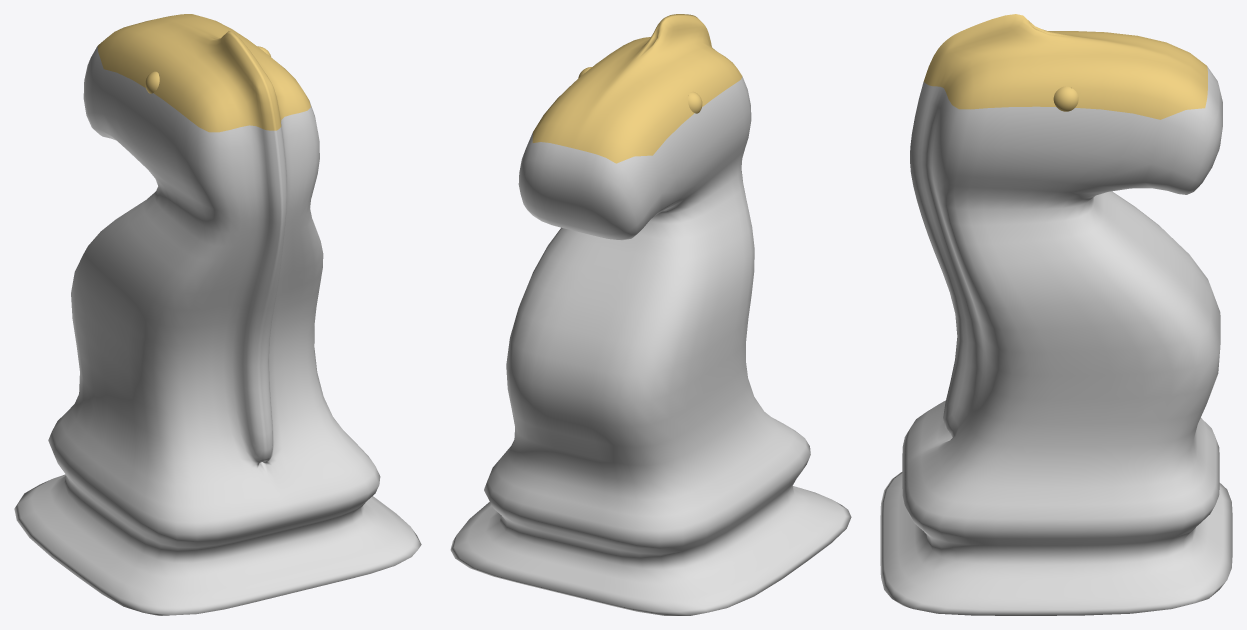
The model's file is sade_n_w.glb.
The picture shows the model from 3 angles, left to right: view 1: azimuth 30°, elevation 25°; view 2: azimuth 150°, elevation 25°; view 3: azimuth 270°, elevation 25°; orthographic projection. The views are drawn at different scales.
Visible parts, largest first — view 1: x; view 2: x; view 3: x.
Boxes of the visible parts, left/top/right/bottom form: x: left=14, top=14, right=421, bottom=615; x: left=450, top=14, right=851, bottom=615; x: left=880, top=14, right=1232, bottom=615.
Bounding box in the file's own units: 0.5459 × 0.9 × 0.5391.
